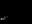person: (1, 14, 8, 21)
